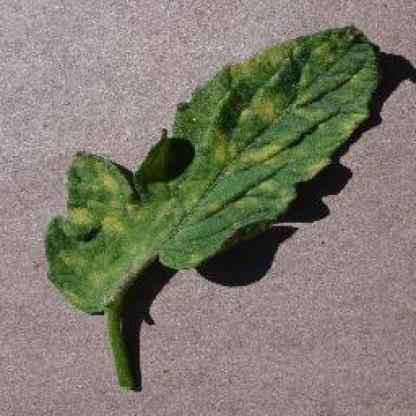Tomato_Leaf_Mold: (43, 25, 377, 312)
